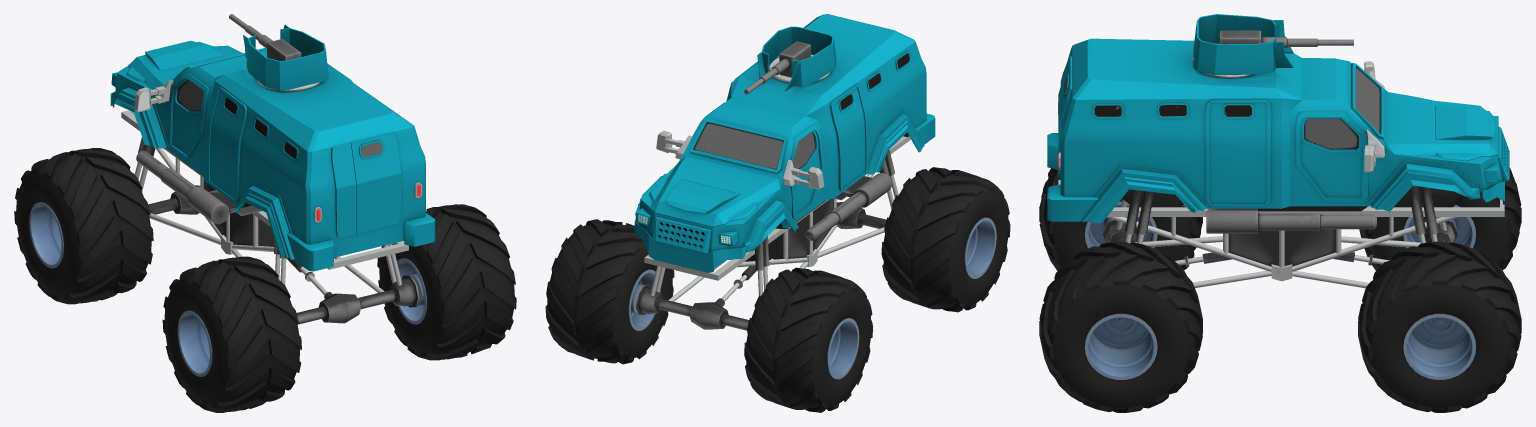
Rendered from monster.glb.
The picture shows the model from 3 angles, left to right: view 1: azimuth 30°, elevation 25°; view 2: azimuth 150°, elevation 25°; view 3: azimuth 270°, elevation 25°; orthographic projection. The views are drawn at different scales.
Parts seen in each view (by area): view 1: Body, Monster Tire Base001, Monster Tire Base002, Monster Tire Base004, Monster Chassis Base, Monster Axels, Side Weapon_Material #597_0, Machine Gun; view 2: Body, Monster Tire Base001, Monster Tire Base002, Monster Tire Base003, Monster Chassis Base, Monster Axels, Side Weapon_Material #597_0, Machine Gun; view 3: Body, Monster Tire Base003, Monster Tire Base004, Monster Chassis Base, Monster Tire Base001, Monster Tire Base002, Side Weapon_Material #597_0, Machine Gun, Monster Axels, Side Door Glass_Extra Glask_0.
Boxes of the visible parts, x1,y1,x2,y2 form: Body: [110, 24, 435, 271]; Monster Tire Base001: [14, 148, 153, 304]; Monster Tire Base002: [162, 256, 301, 412]; Monster Tire Base004: [377, 204, 516, 360]; Monster Chassis Base: [121, 110, 408, 298]; Monster Axels: [148, 185, 419, 324]; Side Weapon_Material #597_0: [136, 150, 262, 224]; Machine Gun: [229, 14, 301, 60]; Body: [634, 14, 935, 272]; Monster Tire Base001: [744, 267, 873, 412]; Monster Tire Base002: [881, 167, 1010, 312]; Monster Tire Base003: [545, 219, 674, 364]; Monster Chassis Base: [644, 136, 910, 306]; Monster Axels: [635, 202, 886, 330]; Side Weapon_Material #597_0: [805, 173, 891, 240]; Machine Gun: [744, 41, 810, 94]; Body: [1047, 14, 1509, 223]; Monster Tire Base003: [1358, 241, 1521, 412]; Monster Tire Base004: [1039, 241, 1202, 412]; Monster Chassis Base: [1058, 180, 1504, 288]; Monster Tire Base001: [1359, 168, 1521, 270]; Monster Tire Base002: [1039, 168, 1202, 270]; Side Weapon_Material #597_0: [1206, 208, 1376, 233]; Machine Gun: [1219, 30, 1353, 48]; Monster Axels: [1102, 217, 1458, 243]; Side Door Glass_Extra Glask_0: [1094, 105, 1251, 116].
Bounding box in the file's own units: 4.42 × 4.23 × 5.83.
Materials: 15 (15 with a texture image).
